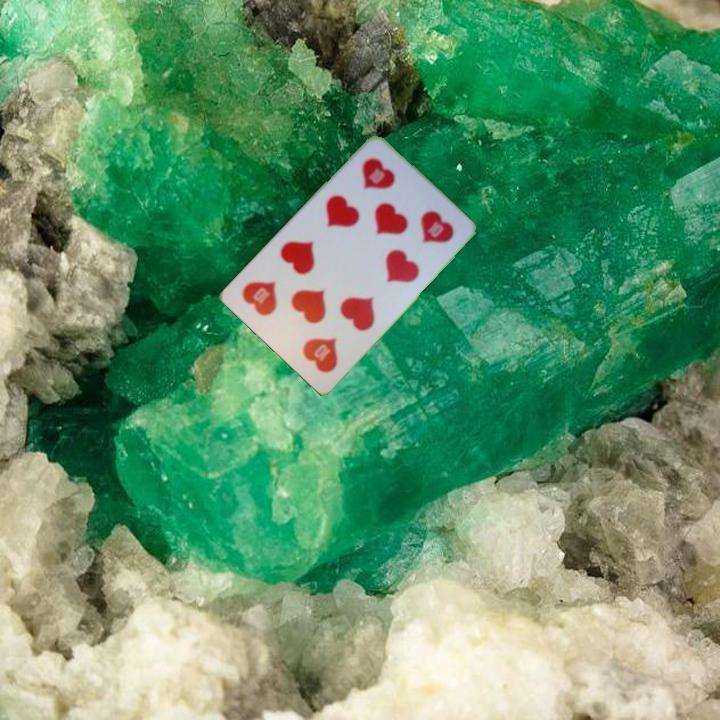h_10.png: (276, 297, 362, 383), (337, 144, 423, 229)
